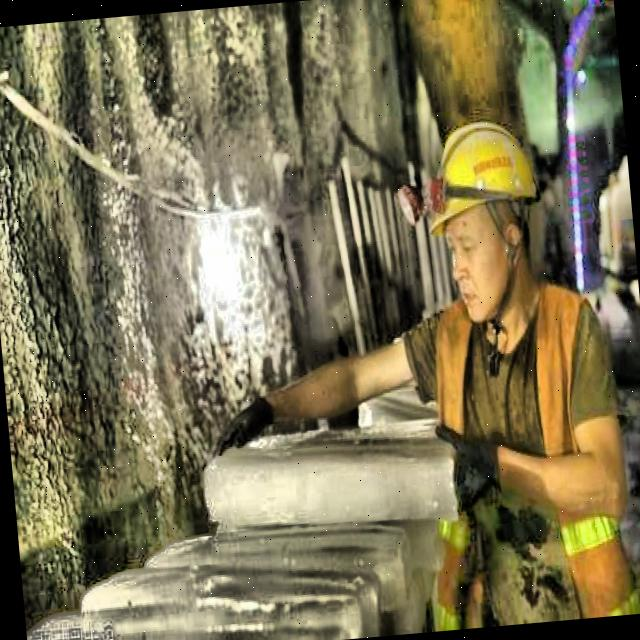helmet: (408, 92, 556, 323)
